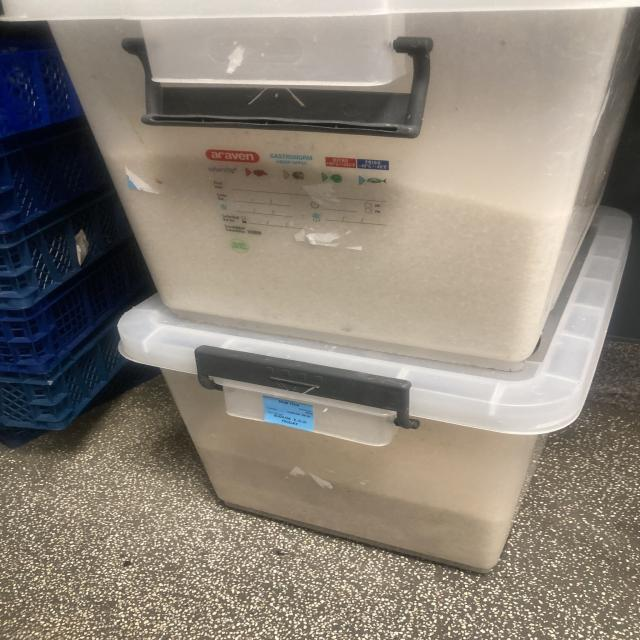product-labels: (257, 395, 318, 432)
